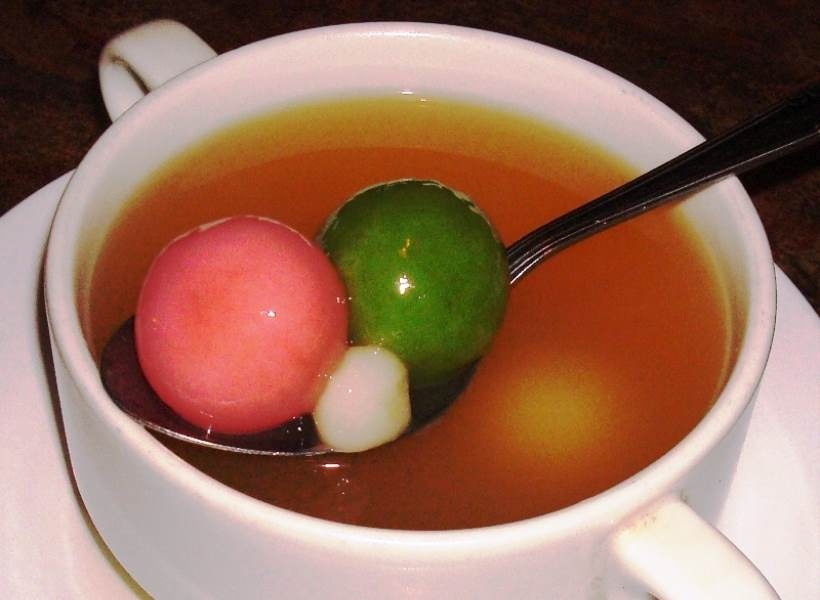ronde: (133, 178, 514, 449)
